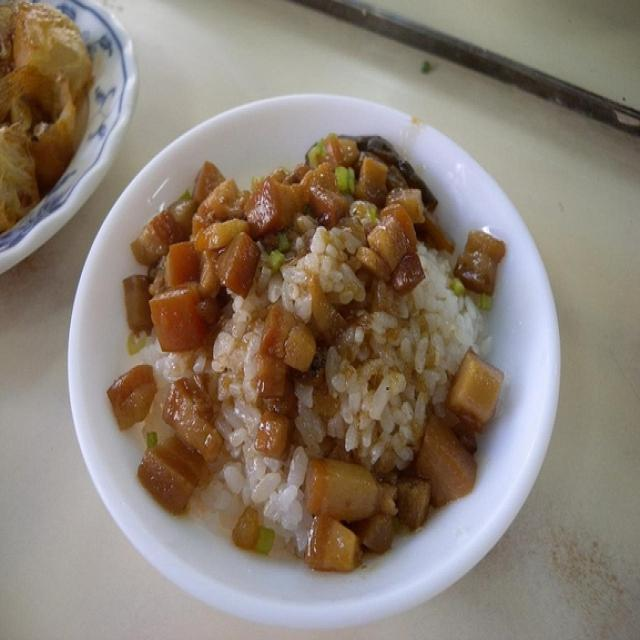猪肉菜式: (91, 80, 559, 594)
